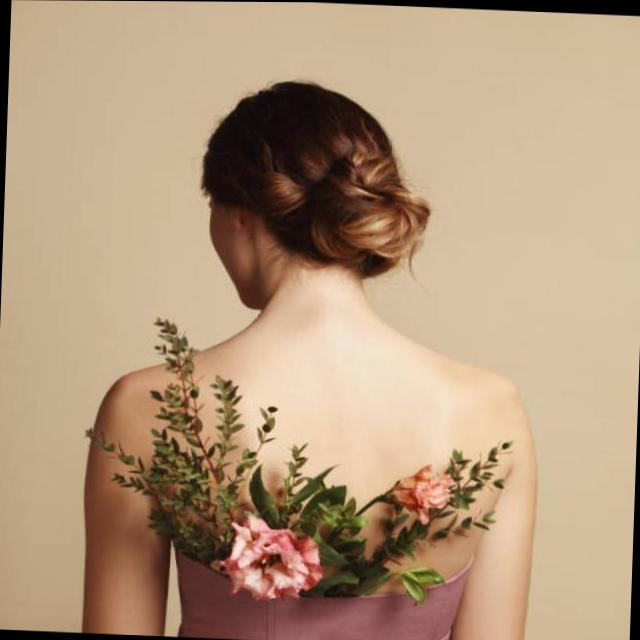no helmet: (136, 45, 458, 332)
